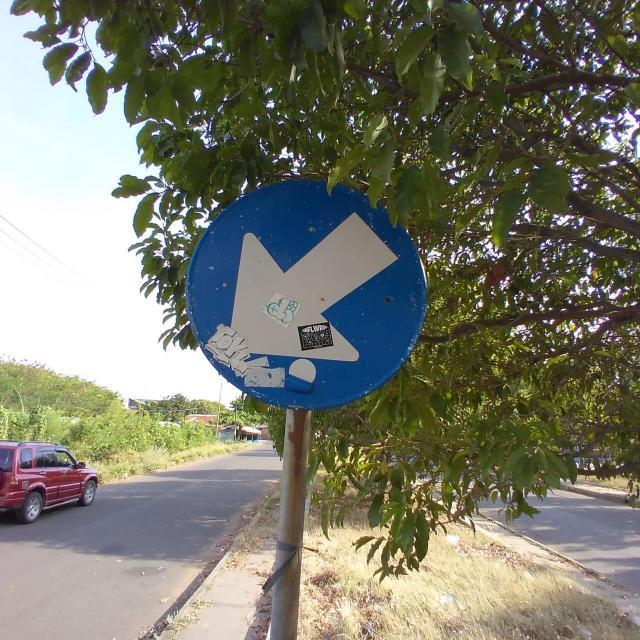traffic sign: (192, 185, 421, 406)
